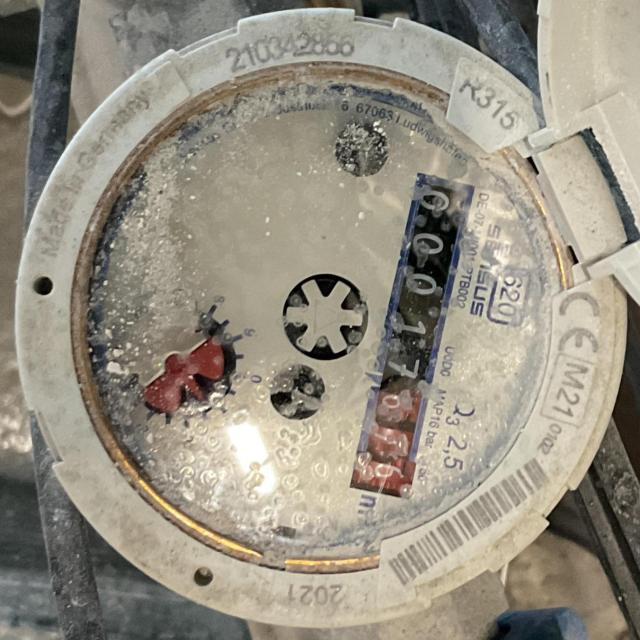gaz_meter: (17, 8, 623, 632)
indication: (351, 172, 473, 498)
